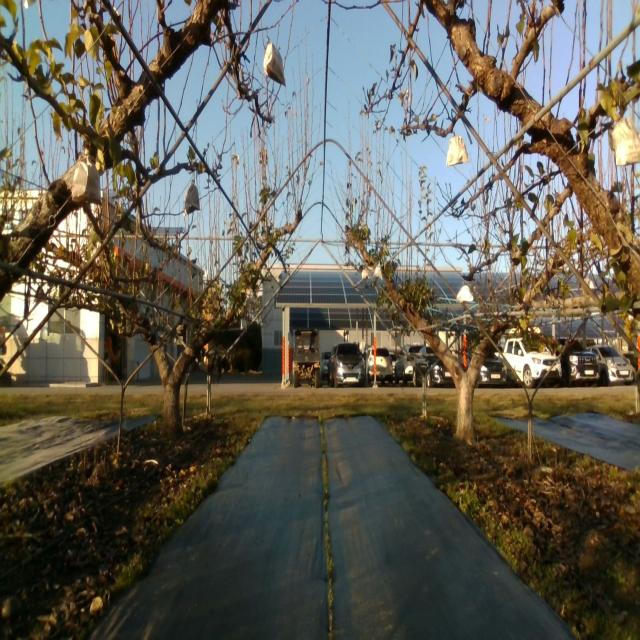pearbags: (611, 116, 640, 168), (72, 158, 100, 204), (263, 36, 286, 88), (446, 127, 468, 167), (183, 179, 200, 216), (456, 281, 474, 304)
